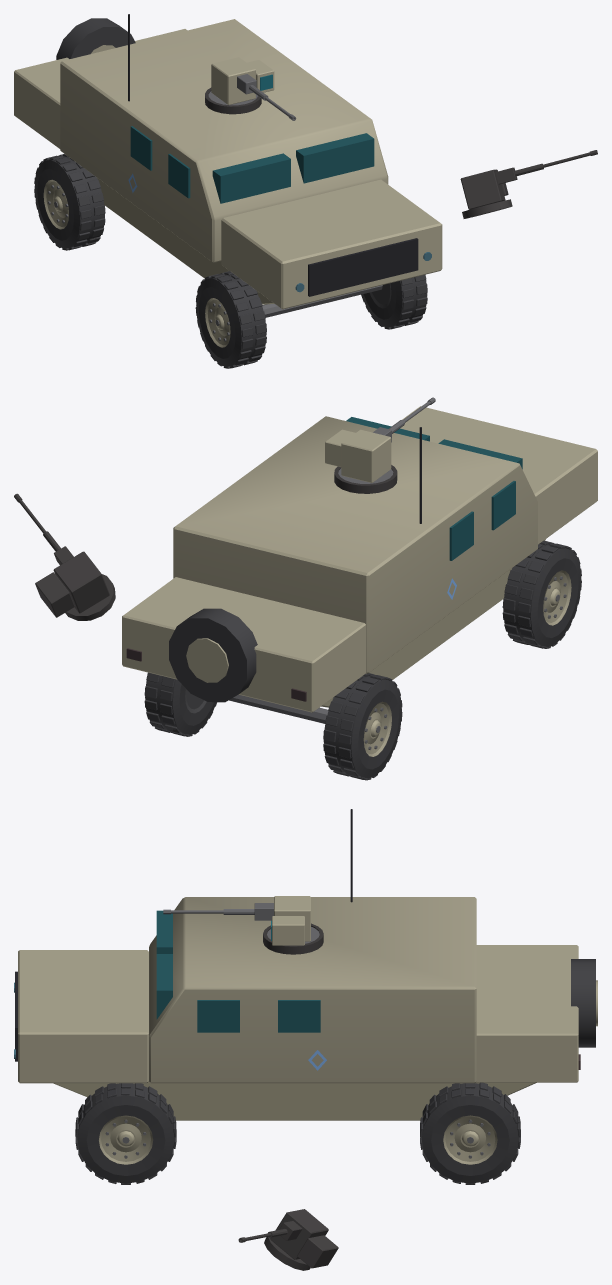
File: reconVehicle__hawkei.glb
3 renders of one model, top to bottom at view 1: azimuth 30°, elevation 25°; view 2: azimuth 150°, elevation 25°; view 3: azimuth 270°, elevation 25°, orthographic. The views are drawn at different scales.
Visible parts, largest first — view 1: Hull_Mesh, Wheel_L1_Mesh, Wheel_L0_Mesh, Wreck, Wheel_R1_Mesh, Turret_Mesh, Gun_Mesh; view 2: Hull_Mesh, Wheel_L0_Mesh, Wheel_L1_Mesh, Wreck, Wheel_R0_Mesh, Turret_Mesh; view 3: Hull_Mesh, Wheel_R1_Mesh, Wheel_R0_Mesh, Wreck, Turret_Mesh, Gun_Mesh.
Boxes of the visible parts, box(x1,y1,x2,y2) form: Hull_Mesh: box(14, 14, 442, 317); Wheel_L1_Mesh: box(195, 271, 266, 368); Wheel_L0_Mesh: box(34, 154, 105, 250); Wreck: box(60, 87, 597, 368); Wheel_R1_Mesh: box(361, 274, 427, 329); Turret_Mesh: box(208, 57, 274, 105); Gun_Mesh: box(237, 74, 296, 120); Hull_Mesh: box(122, 406, 597, 723); Wheel_L0_Mesh: box(323, 673, 402, 780); Wheel_L1_Mesh: box(502, 540, 581, 648); Wreck: box(14, 465, 552, 778); Wheel_R0_Mesh: box(144, 672, 216, 736); Turret_Mesh: box(325, 429, 393, 483); Hull_Mesh: box(14, 809, 597, 1120); Wheel_R1_Mesh: box(75, 1083, 176, 1184); Wheel_R0_Mesh: box(420, 1082, 520, 1184); Wreck: box(109, 923, 493, 1270); Turret_Mesh: box(267, 896, 319, 945); Gun_Mesh: box(163, 903, 273, 920).
Size of what is drawn, in the model's own units: 5.52 by 3.27 by 6.02.
